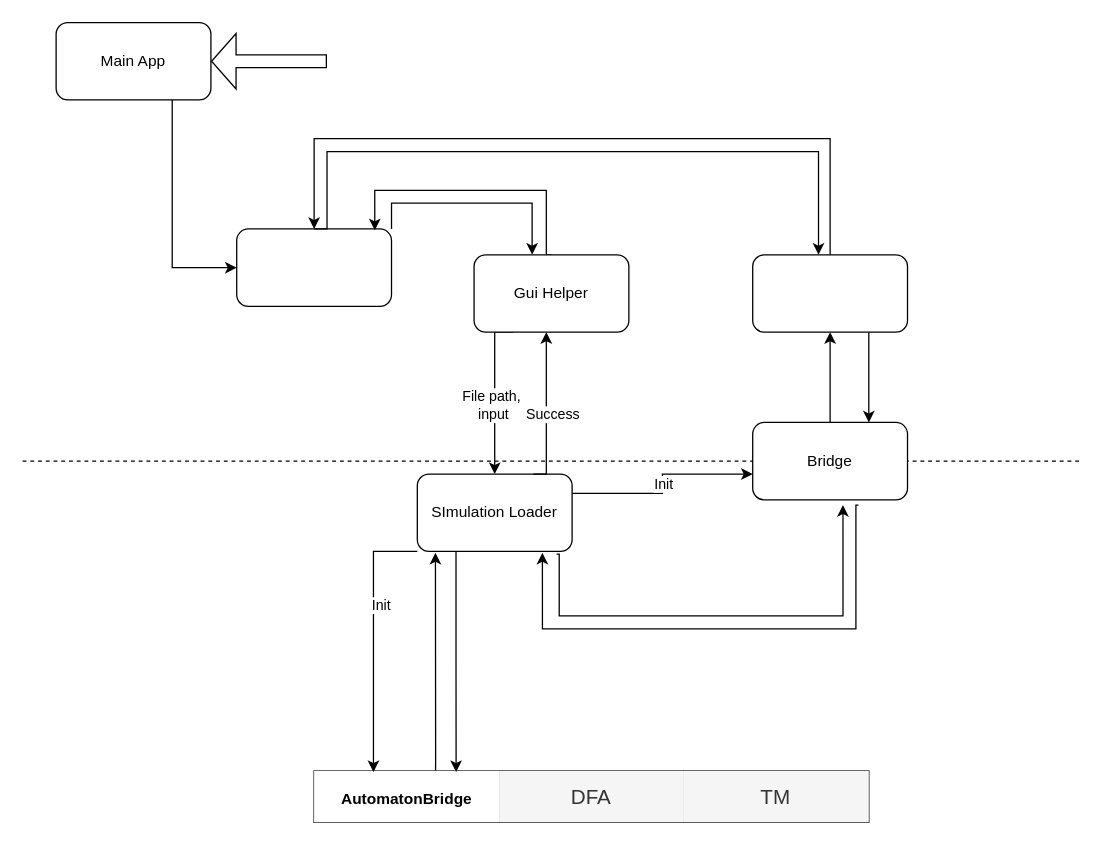
This 1104x845 diagram has some shape labels left out. The centre of each missing label's shape, as x and y in pixels:
"Automaton Handler" belongs at (x=829, y=292).
"GUI" belongs at (x=313, y=267).
